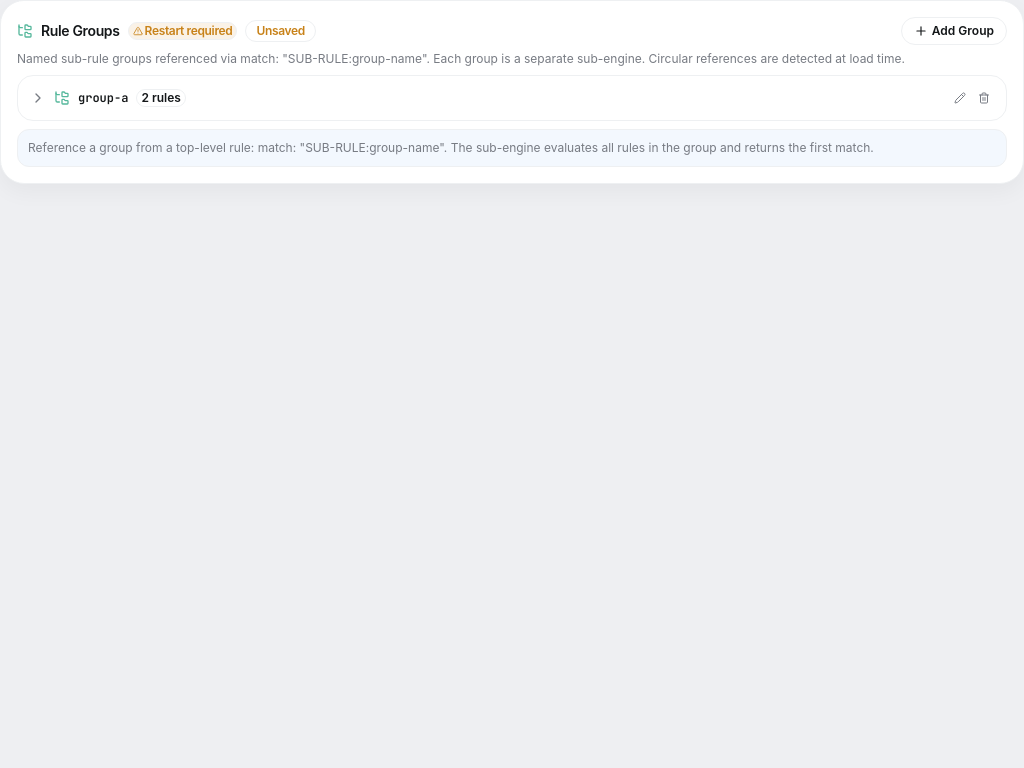
Test: RuleGroupEditor — sub-rule delete confirmation › cancel keeps the sub-rule
Click the text "group-a". click: point(103, 98)
box: x1=78 y1=90 x2=128 y2=106
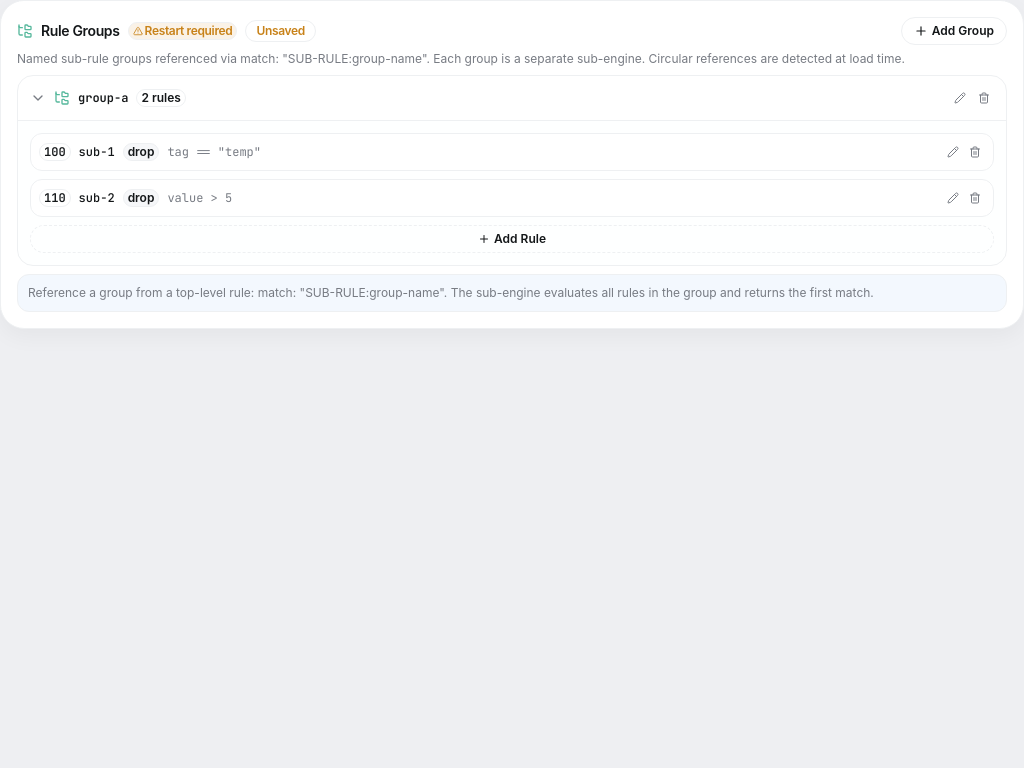
Click the button named "Delete" in the row of "value > 5". click: point(975, 198)
box: x1=965 y1=188 x2=985 y2=208
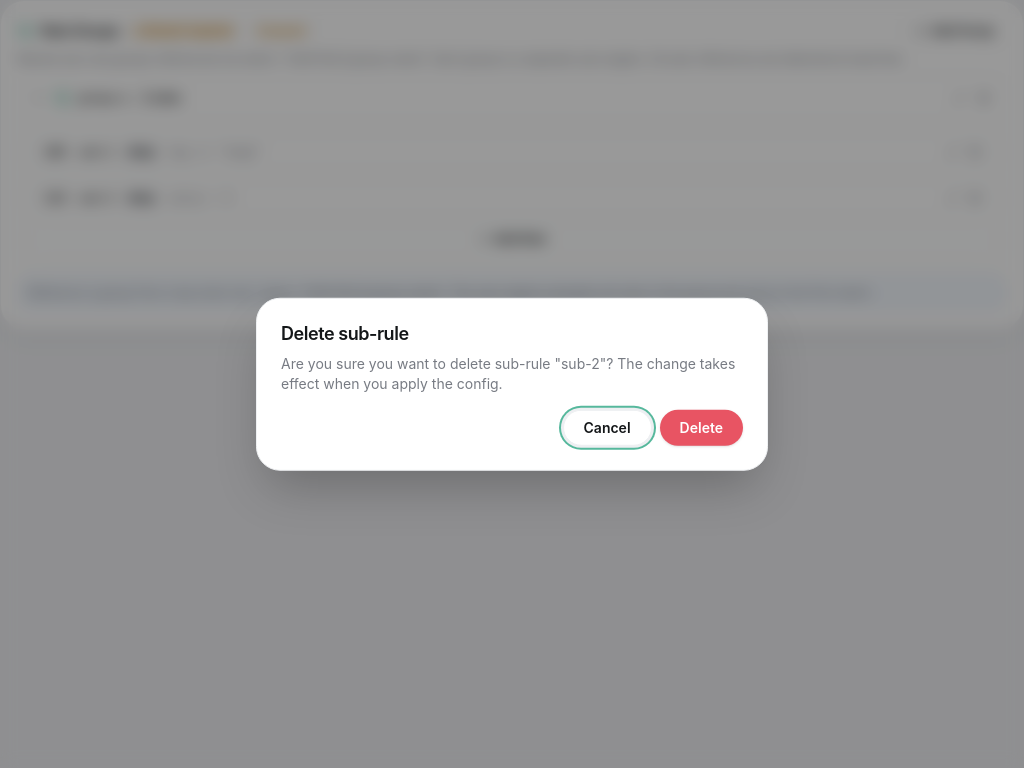
Check: the heading "Delete sub-rule" is shown, box x1=281 y1=323 x2=409 y2=344
Click the button "Cancel". click: point(607, 427)
box: x1=562 y1=409 x2=652 y2=445
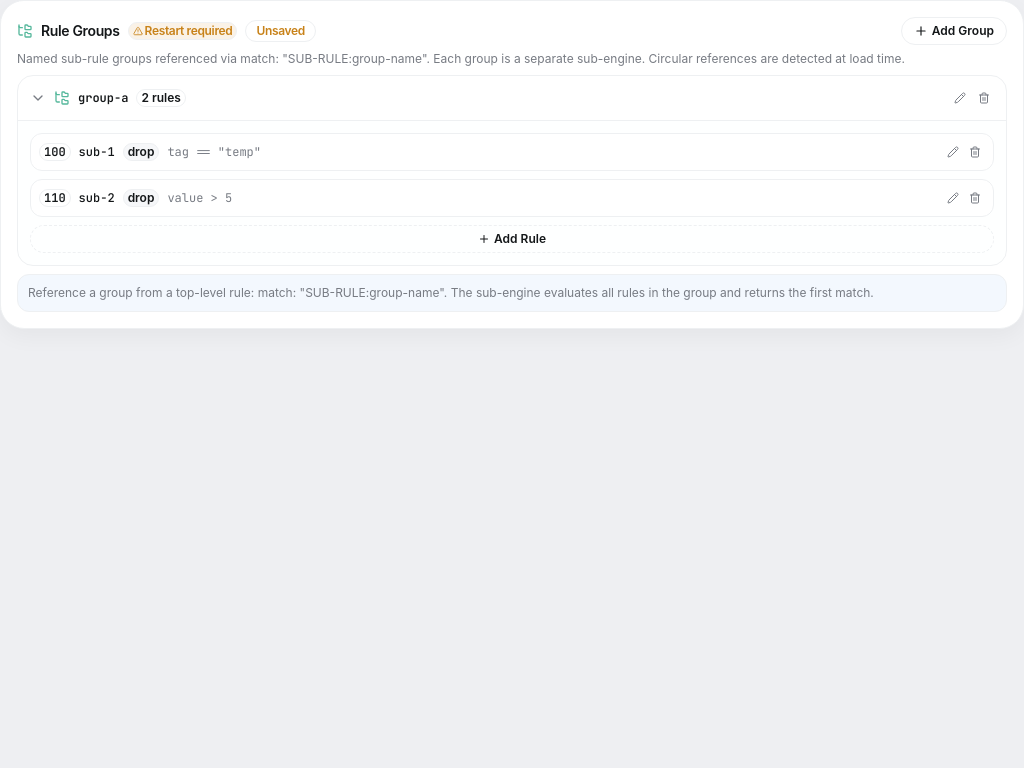
Check: the heading "Delete sub-rule" is gone
